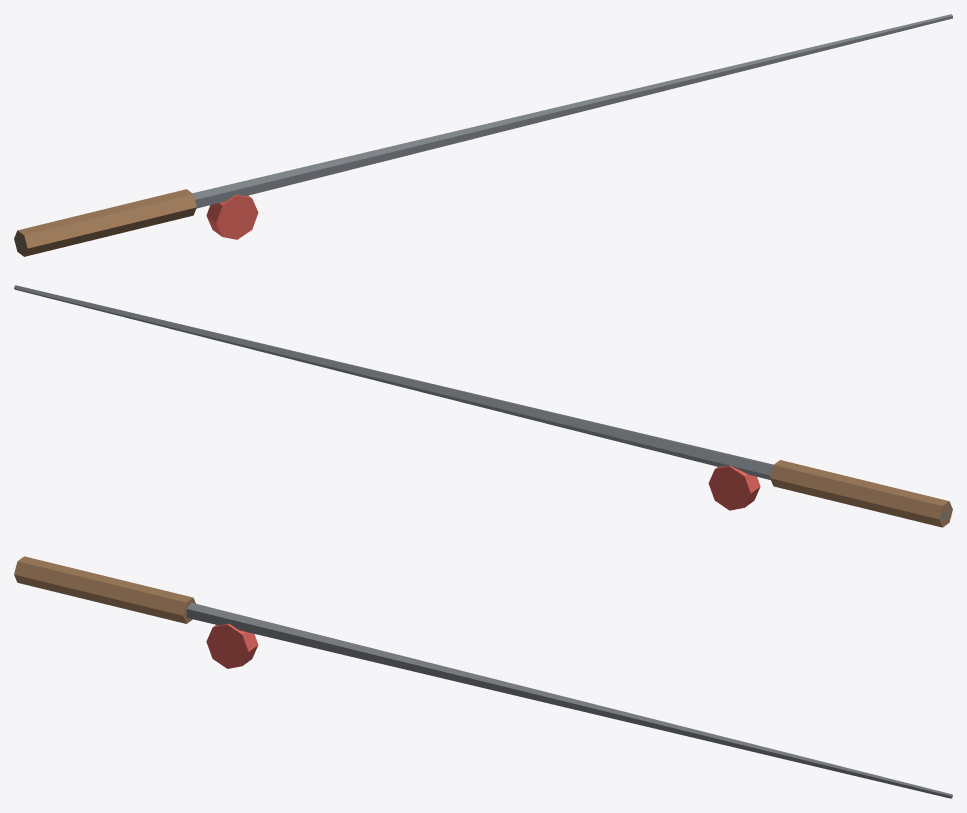
The model's file is SM_FishingRod.fbx.
3 renders of one model, top to bottom at view 1: azimuth 30°, elevation 25°; view 2: azimuth 150°, elevation 25°; view 3: azimuth 330°, elevation 25°, orthographic.
Parts seen in each view (by area): view 1: SM_FishingRod; view 2: SM_FishingRod; view 3: SM_FishingRod.
Part boxes in pixels (x1=…): SM_FishingRod: x1=14, y1=14, x2=952, y2=256; SM_FishingRod: x1=14, y1=285, x2=952, y2=527; SM_FishingRod: x1=14, y1=556, x2=952, y2=798.
Size of the model in its own units: 2.2 by 0.1242 by 0.056.
